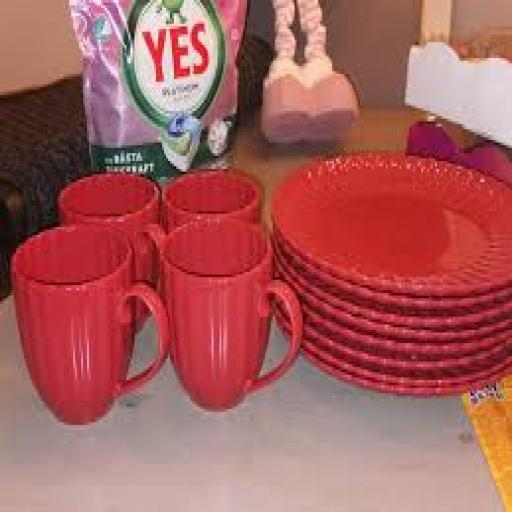red mug: (14, 224, 164, 417), (154, 216, 300, 409), (61, 172, 154, 285), (164, 169, 259, 230)
